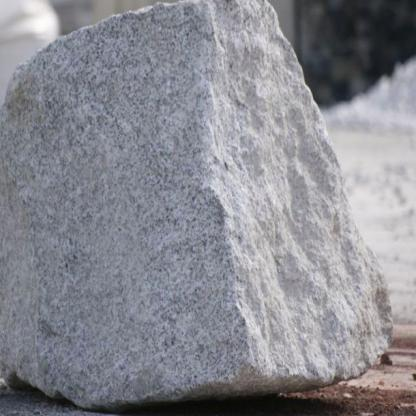Igneous_Granite: (0, 0, 385, 406)
